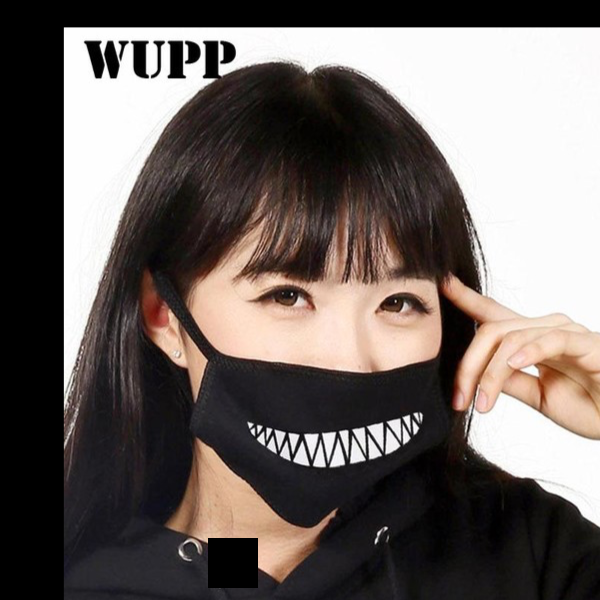with_mask: (184, 254, 447, 522)
